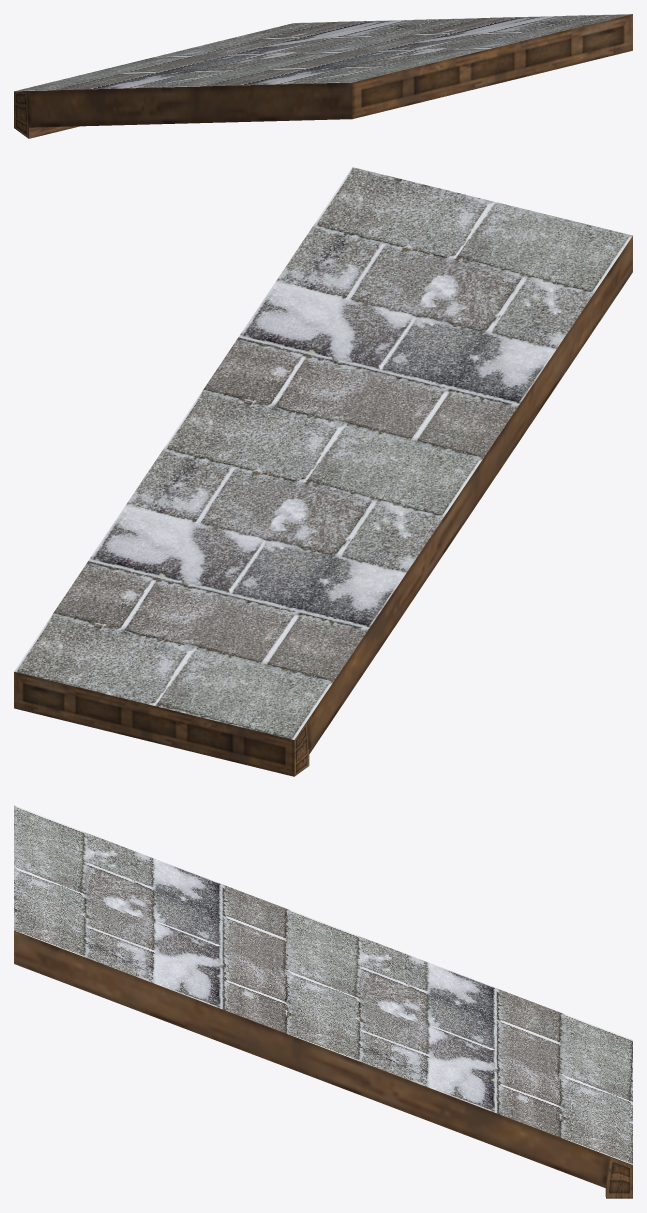
Rendered from Roof_3x6.275.fbx.
The picture shows the model from 3 angles, top to bottom: view 1: azimuth 30°, elevation 25°; view 2: azimuth 150°, elevation 25°; view 3: azimuth 270°, elevation 25°; orthographic projection. The views are drawn at different scales.
Parts seen in each view (by area): view 1: Roof_3x6.275; view 2: Roof_3x6.275; view 3: Roof_3x6.275.
Boxes of the visible parts, <box> form: Roof_3x6.275: <box>14,14,632,138</box>; Roof_3x6.275: <box>14,167,632,776</box>; Roof_3x6.275: <box>14,805,632,1198</box>.
Bounding box in the file's own units: 300 × 300 × 628.
